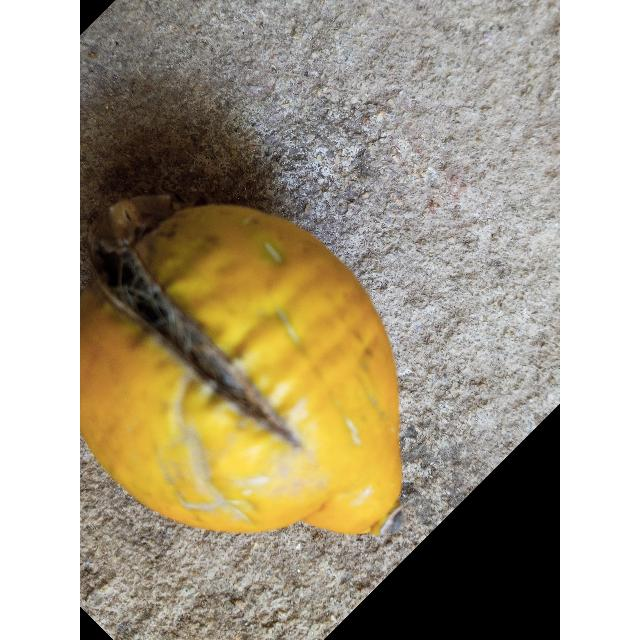damaged: (80, 197, 403, 538)
